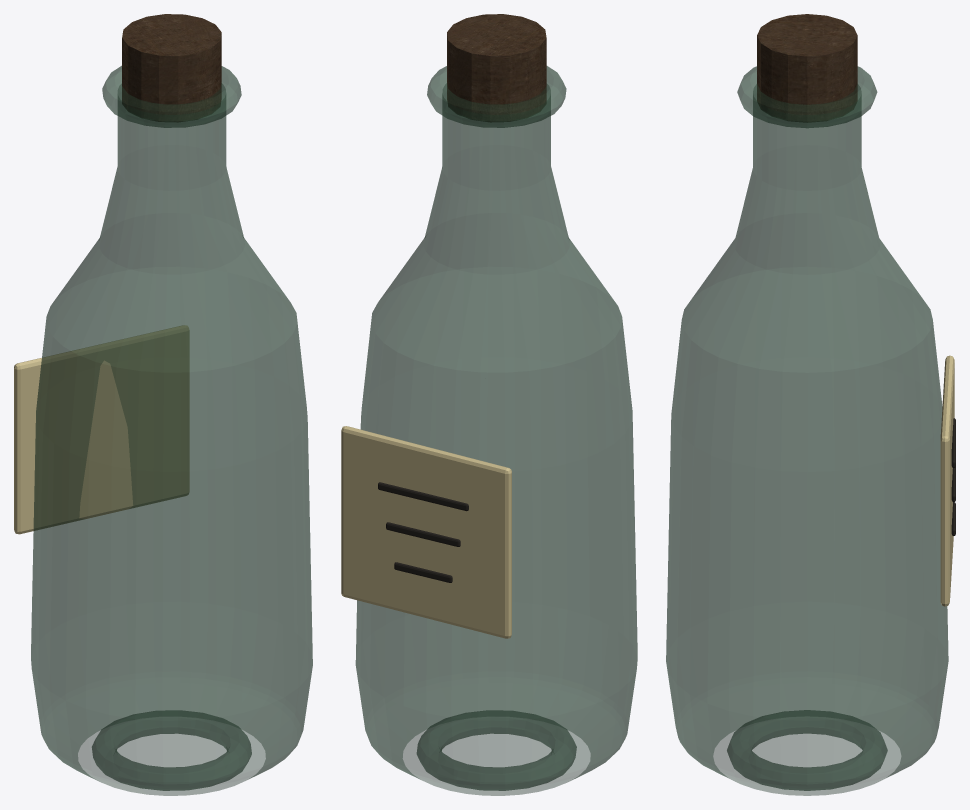
Rendered from rum-bottle.glb.
3 views of the same model, side by side, from view 1: azimuth 30°, elevation 25°; view 2: azimuth 150°, elevation 25°; view 3: azimuth 270°, elevation 25° (orthographic).
Parts seen in each view (by area): view 1: BottleHandBlownBody, BottleLabel, BottleCork, BottlePunt, BottleLip; view 2: BottleHandBlownBody, BottleLabel, BottleCork, BottlePunt, BottleLip, BottleLabelInk_0, BottleLabelInk_1; view 3: BottleHandBlownBody, BottleCork, BottlePunt, BottleLip, BottleLabel.
Part boxes in pixels (<box>): BottleHandBlownBody: <box>31,84,312,795</box>; BottleLabel: <box>14,325,189,534</box>; BottleCork: <box>122,14,221,121</box>; BottlePunt: <box>92,710,251,790</box>; BottleLip: <box>102,66,241,127</box>; BottleHandBlownBody: <box>355,83,637,795</box>; BottleLabel: <box>341,426,511,638</box>; BottleCork: <box>447,14,546,121</box>; BottlePunt: <box>417,710,576,790</box>; BottleLip: <box>427,66,566,127</box>; BottleLabelInk_0: <box>378,482,468,511</box>; BottleLabelInk_1: <box>386,522,460,546</box>; BottleHandBlownBody: <box>666,84,948,795</box>; BottleCork: <box>757,14,857,122</box>; BottlePunt: <box>727,710,887,790</box>; BottleLip: <box>737,66,877,128</box>; BottleLabel: <box>940,355,954,606</box>.
Size of the model in its own units: 0.27 by 0.766 by 0.277.
Materials: 4 (1 with a texture image).
